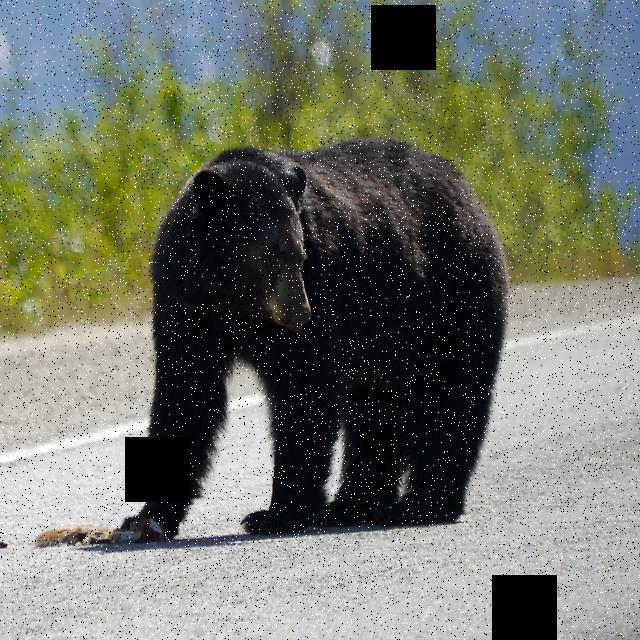Bear: (102, 126, 514, 553)
